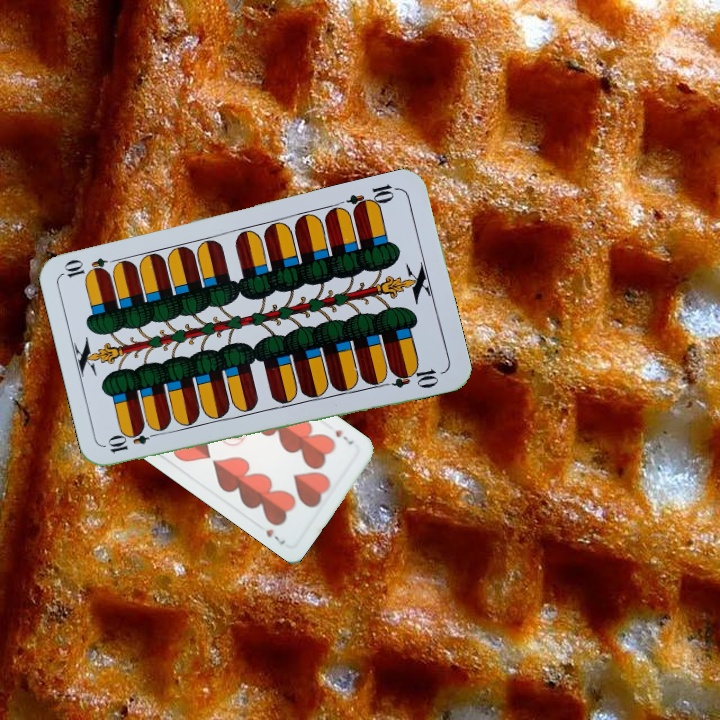E10: (343, 180, 402, 215), (104, 426, 163, 456)
H7: (331, 426, 356, 447)
